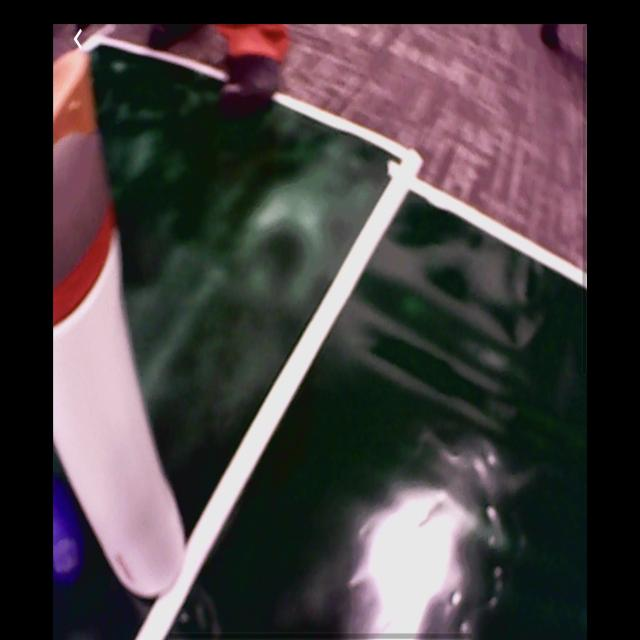ball: (54, 476, 85, 581)
